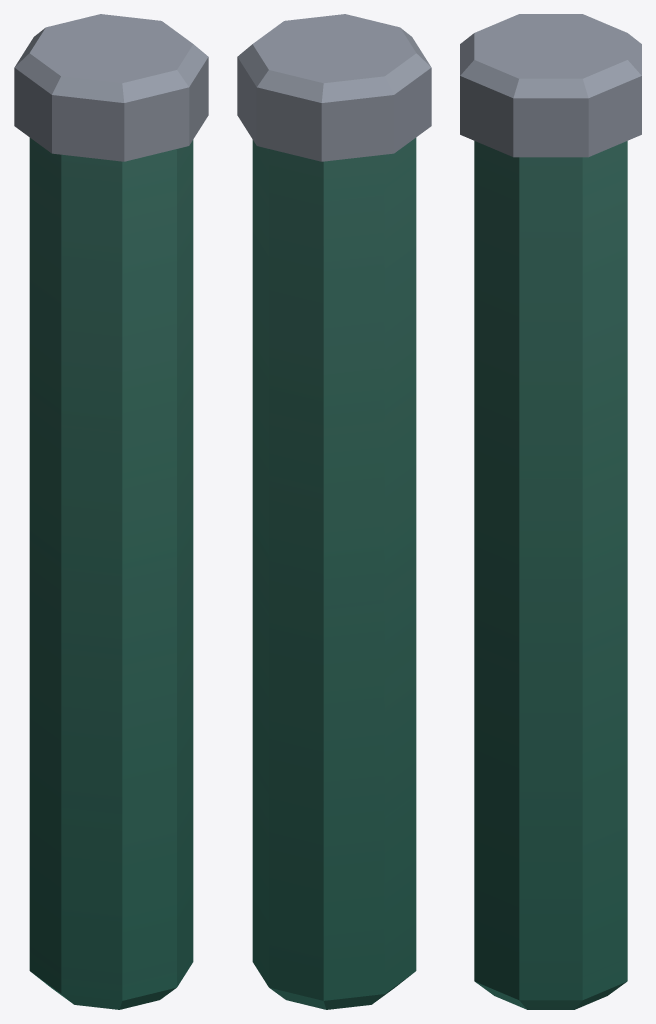
File: SM_Props_Laboratory_18.fbx
3 views of the same model, side by side, from view 1: azimuth 30°, elevation 25°; view 2: azimuth 150°, elevation 25°; view 3: azimuth 270°, elevation 25° (orthographic).
Parts seen in each view (by area): view 1: SM_Props_Laboratory_18; view 2: SM_Props_Laboratory_18; view 3: SM_Props_Laboratory_18.
Part boxes in pixels (<box>): SM_Props_Laboratory_18: <box>14,14,208,1009</box>; SM_Props_Laboratory_18: <box>237,14,431,1009</box>; SM_Props_Laboratory_18: <box>460,14,641,1009</box>.
Bounding box in the file's own units: 0.0329 × 0.1878 × 0.0329.
